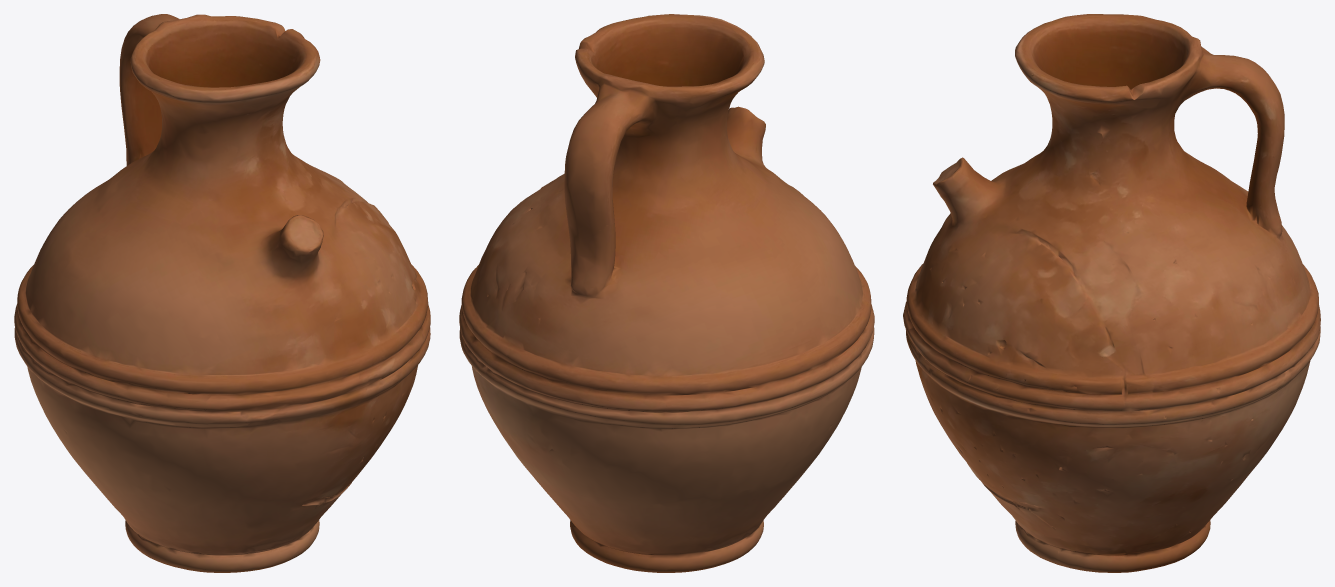
File: jug.glb
The picture shows the model from 3 angles, left to right: view 1: azimuth 30°, elevation 25°; view 2: azimuth 150°, elevation 25°; view 3: azimuth 270°, elevation 25°; orthographic projection.
Parts seen in each view (by area): view 1: tripo_node_9da836fc-f3bb-4527-b596-037254c7de94; view 2: tripo_node_9da836fc-f3bb-4527-b596-037254c7de94; view 3: tripo_node_9da836fc-f3bb-4527-b596-037254c7de94.
Boxes of the visible parts, <box> form: tripo_node_9da836fc-f3bb-4527-b596-037254c7de94: <box>14,14,430,572</box>; tripo_node_9da836fc-f3bb-4527-b596-037254c7de94: <box>459,14,874,572</box>; tripo_node_9da836fc-f3bb-4527-b596-037254c7de94: <box>903,14,1320,572</box>.
Size of the model in its own units: 0.7755 by 1 by 0.7743.
Materials: 1 (1 with a texture image).
